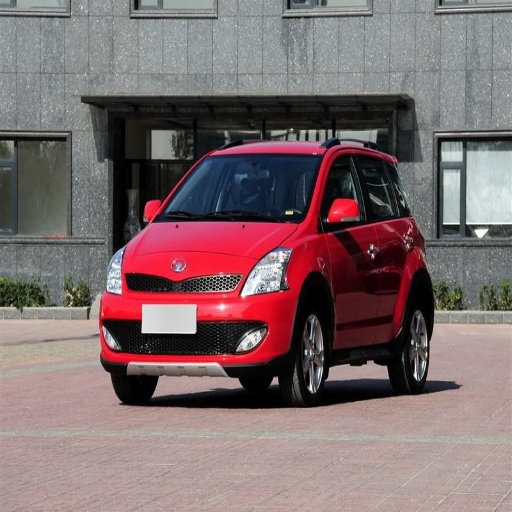front_bumper: (101, 254, 297, 371)
front_glass: (155, 156, 322, 223)
front_left_door: (321, 151, 379, 343)
